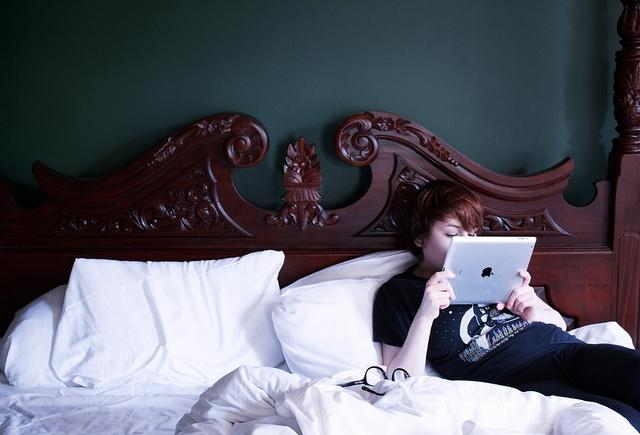apple: (482, 268, 494, 278)
